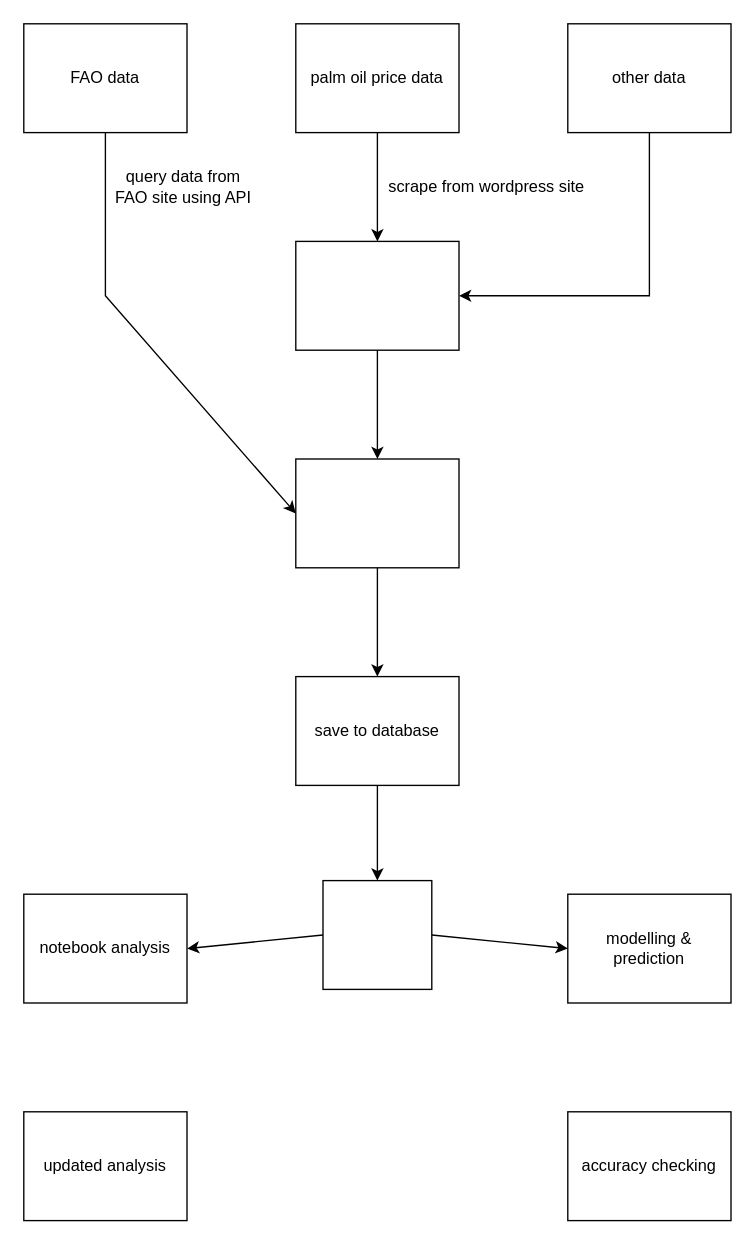
Image size: 755x1244. Some labels were removed from this diagram. The centre of each missing label's shape, as x and y in pixels:
"cleaning & duplication checking/testing script" goes at pixel 376 513.
"Query DB" goes at pixel 377 934.
"Scraping tool to automate data collection" goes at pixel 376 295.
